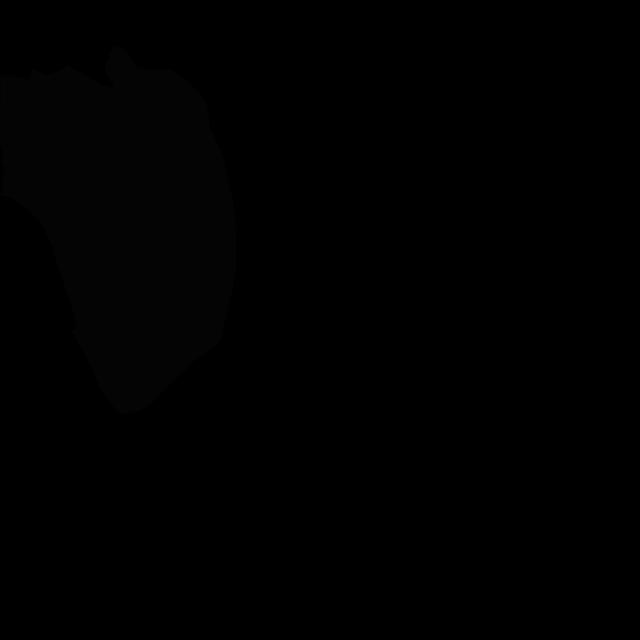soft_plastic: (0, 46, 236, 414)
